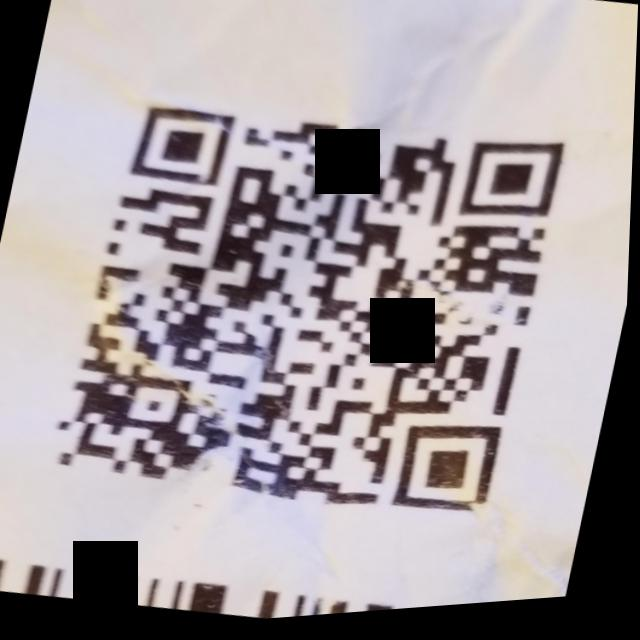QR_CODE: (22, 30, 605, 568)
